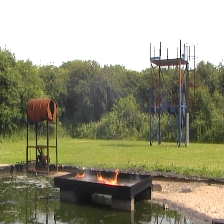fire_l: (96, 169, 119, 186), (75, 172, 86, 178)
